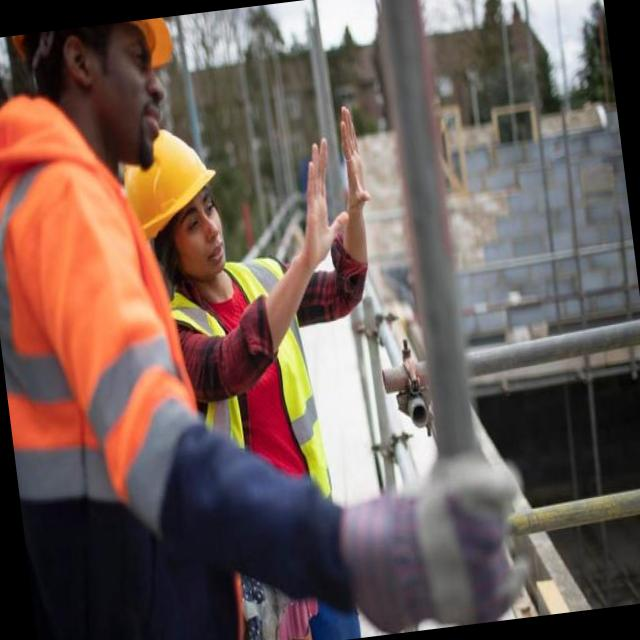Gloves: (326, 454, 556, 622)
Helmet: (120, 124, 232, 225)
Vest: (169, 254, 365, 640)
